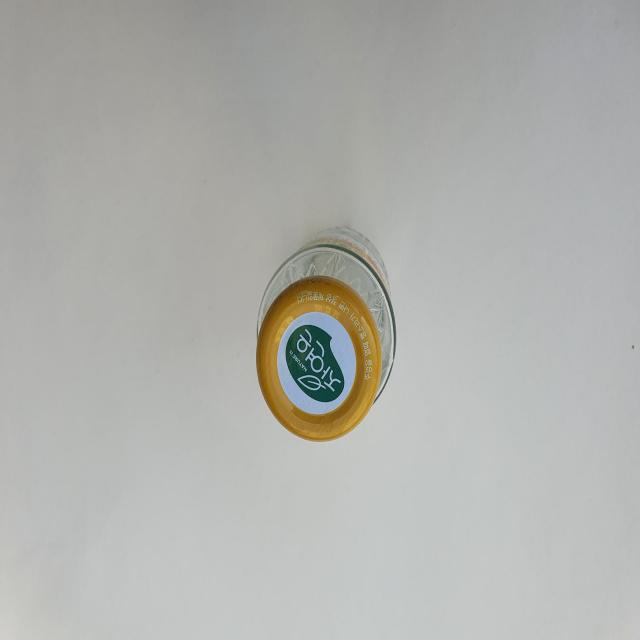glass: (257, 228, 396, 441)
